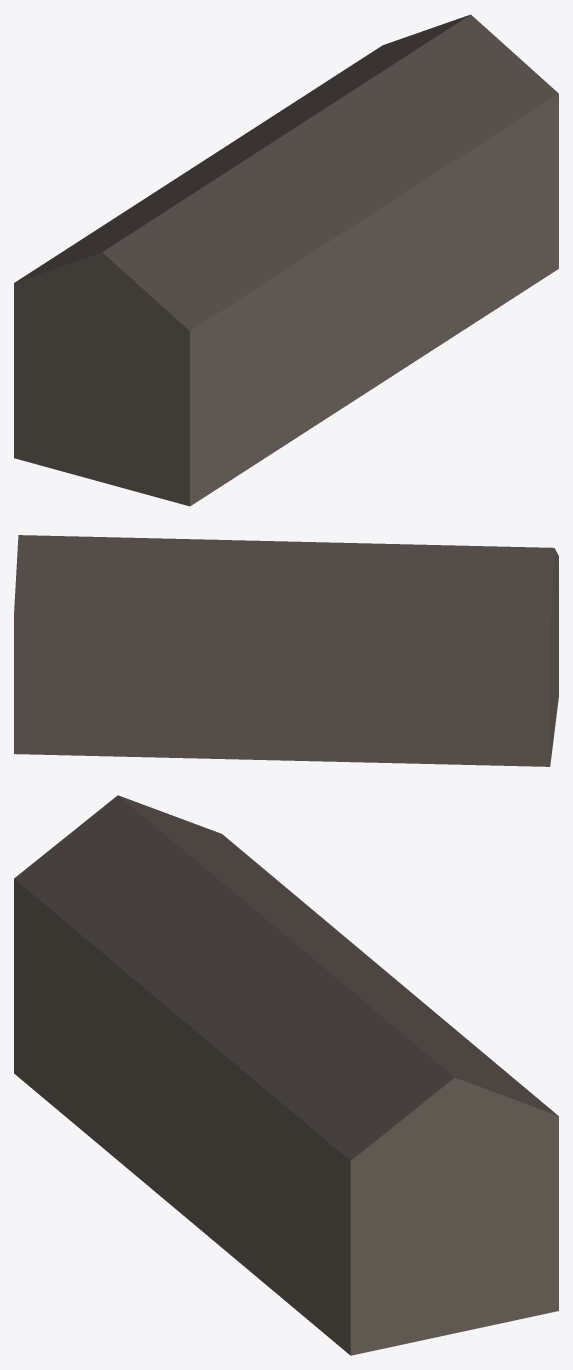
3 views of the same model, one above another, from view 1: azimuth 30°, elevation 25°; view 2: azimuth 150°, elevation 25°; view 3: azimuth 270°, elevation 25° (orthographic). The views are drawn at different scales.
Visible parts, largest first — view 1: HP-w859088484; view 2: HP-w859088484; view 3: HP-w859088484.
Boxes of the visible parts, left/top/right/bottom form: HP-w859088484: left=14, top=14, right=558, bottom=506; HP-w859088484: left=14, top=535, right=558, bottom=766; HP-w859088484: left=14, top=795, right=558, bottom=1355.
Bounding box in the file's own units: 32.43 × 11.83 × 22.83.
